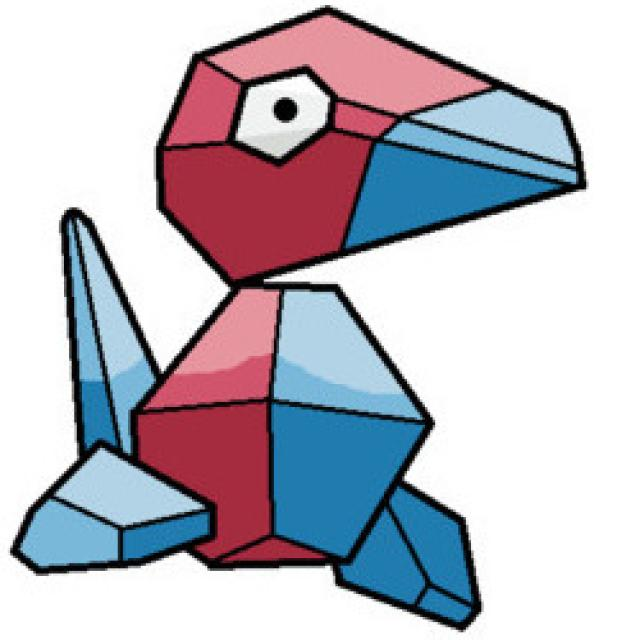Porygon: (37, 8, 585, 601)
